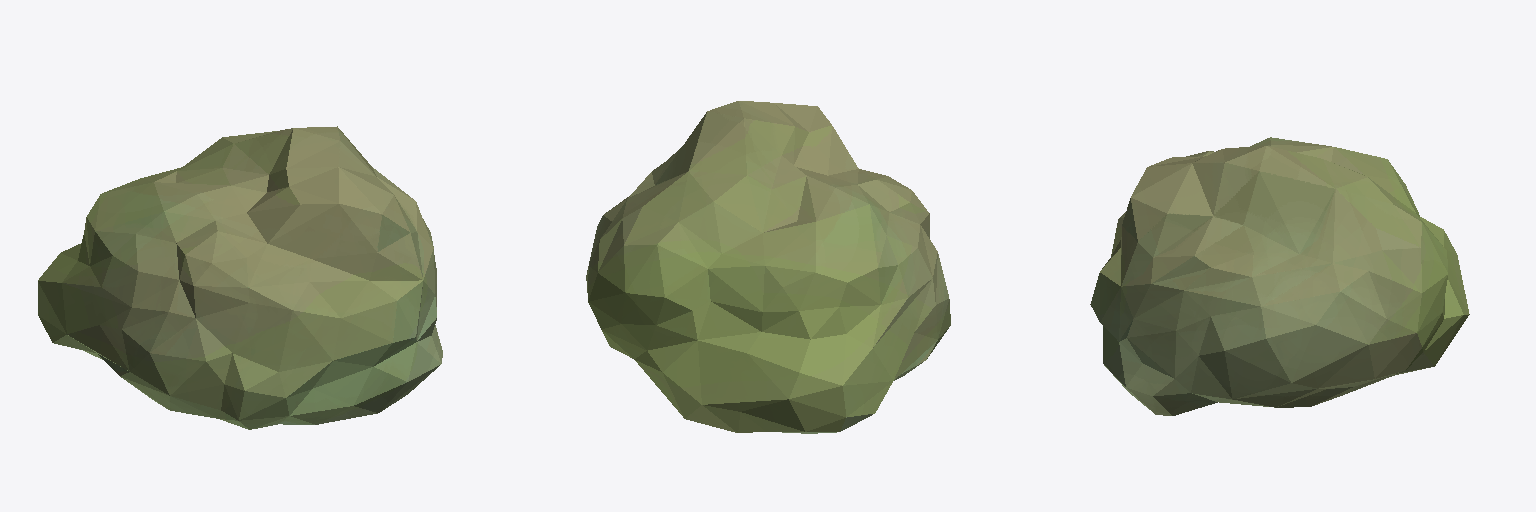
The picture shows the model from 3 angles: view 1: azimuth 30°, elevation 25°; view 2: azimuth 150°, elevation 25°; view 3: azimuth 270°, elevation 25°; orthographic projection.
Parts seen in each view (by area): view 1: 立方体; view 2: 立方体; view 3: 立方体.
Boxes of the visible parts, x1=… form: 立方体: x1=38, y1=126, x2=442, y2=429; 立方体: x1=586, y1=101, x2=950, y2=433; 立方体: x1=1090, y1=137, x2=1469, y2=415.
Size of the model in its own units: 35.1 by 26.75 by 36.65.
Materials: 1 (1 with a texture image).